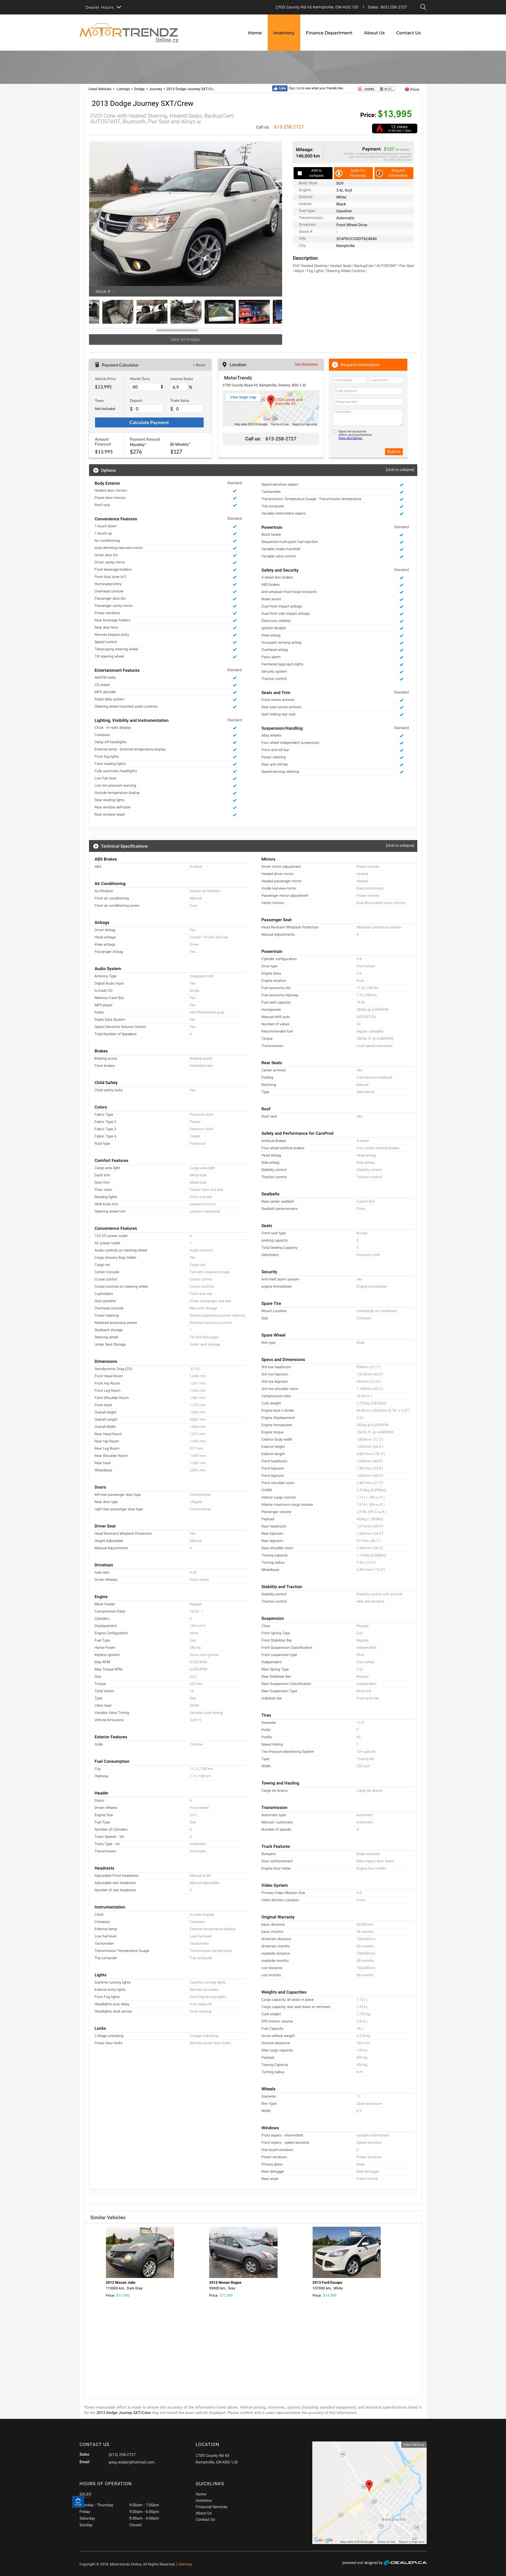car: (274, 210, 279, 219)
